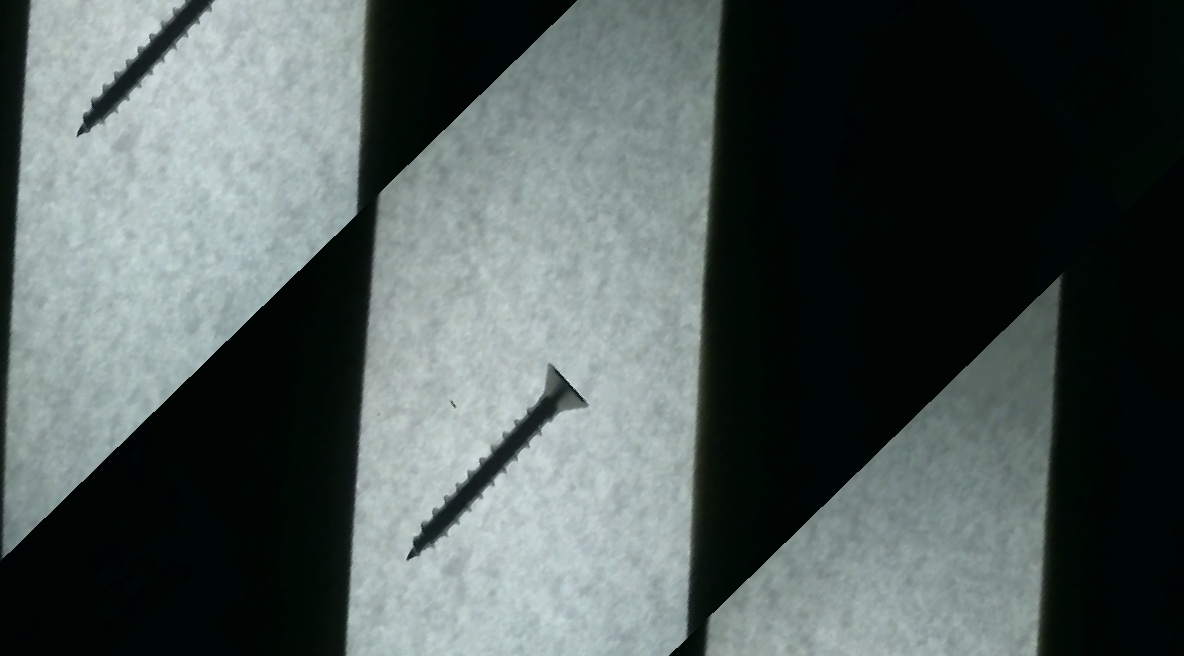S001: (354, 329, 621, 607)
